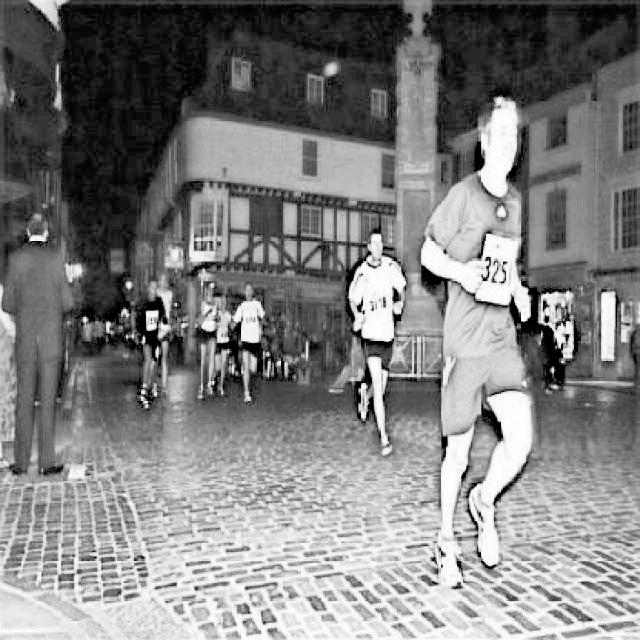Person: (418, 95, 537, 589), (0, 210, 71, 479), (348, 227, 410, 465), (231, 282, 266, 404), (194, 283, 219, 401)
